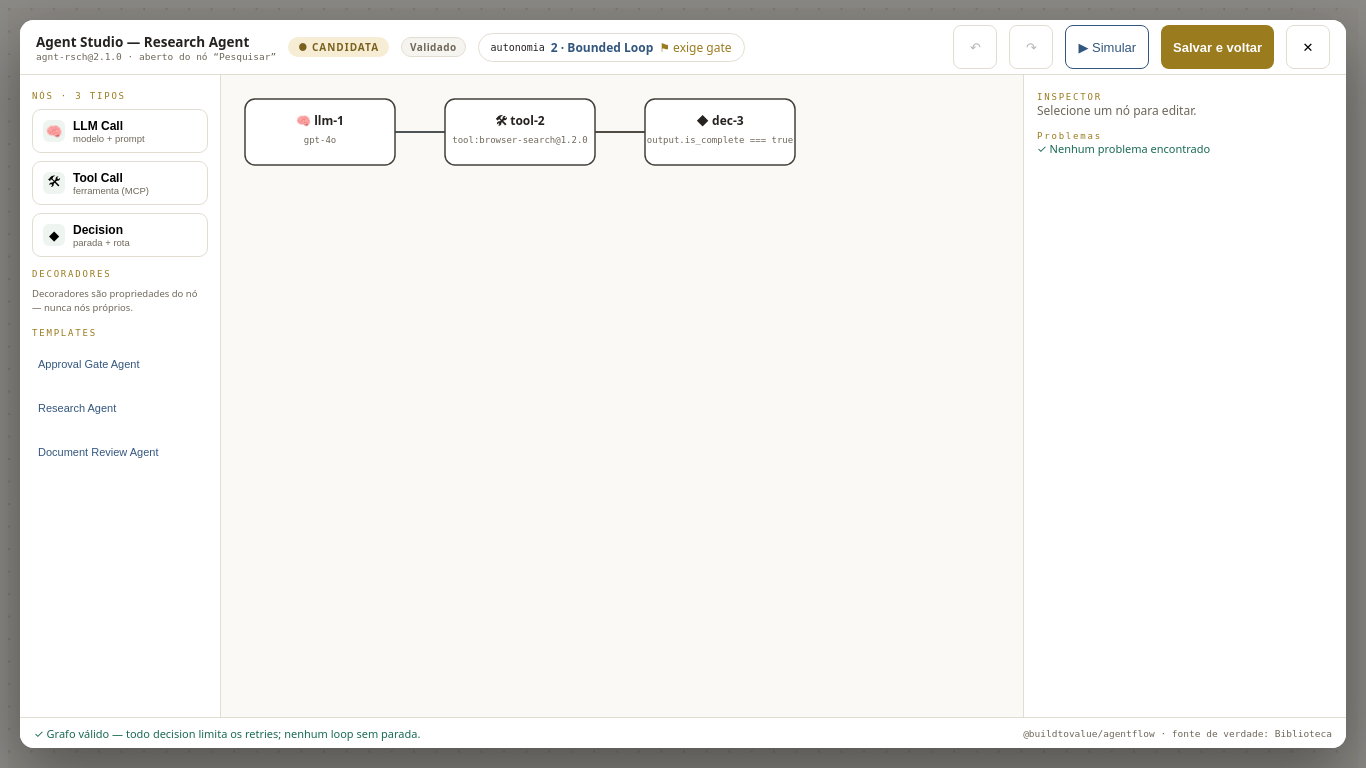
Scenario: AgentStudio shell › applying a template replaces the sub-workflow (governance default first)
Click the button "Approval Gate Agent" at x=120, y=364, box left=32, top=346, right=208, bottom=382
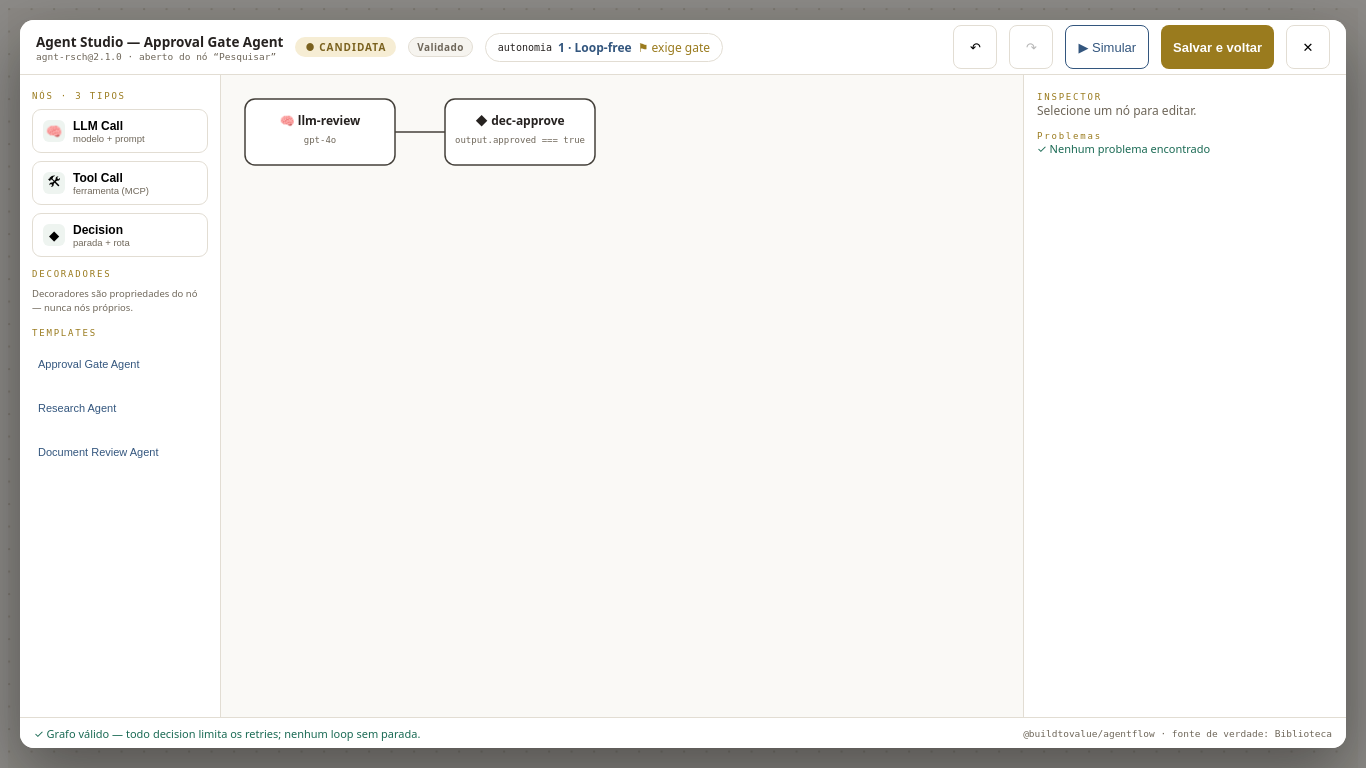
Now the text "Agent Studio — Approval Gate Agent" is shown, box left=36, top=32, right=284, bottom=50
